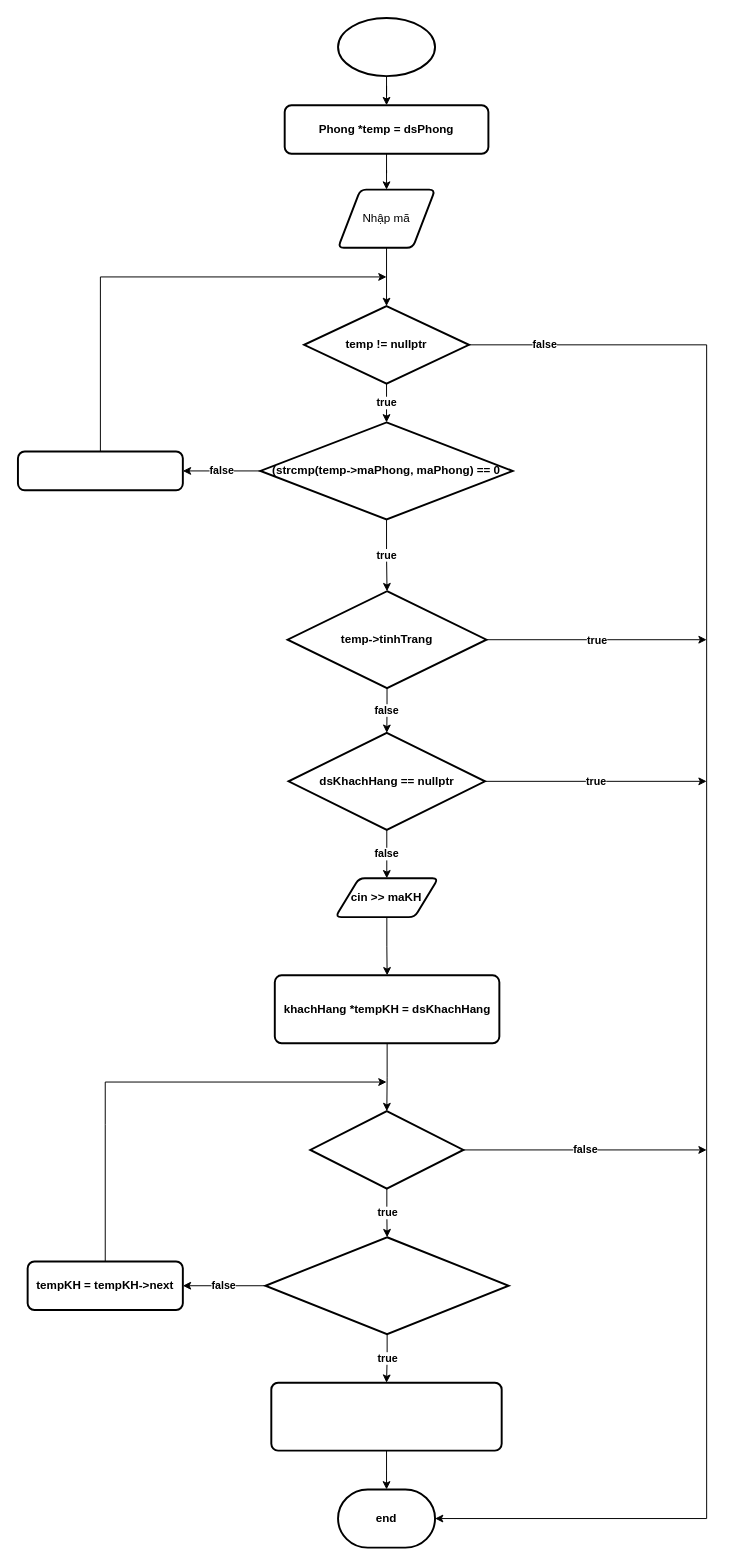
This 731x1565 diagram has some shape labels left out. The centre of each missing label's shape, as x and y in pixels:
"(strcmp(tempKH->maKH, maKH) == 0)" belongs at (386,1285).
"start" belongs at (386,46).
"temp = temp->next" belongs at (99,470).
"temp->tinhTrang = true" belongs at (386,1416).
"tempKH != nullptr" belongs at (386,1149).
